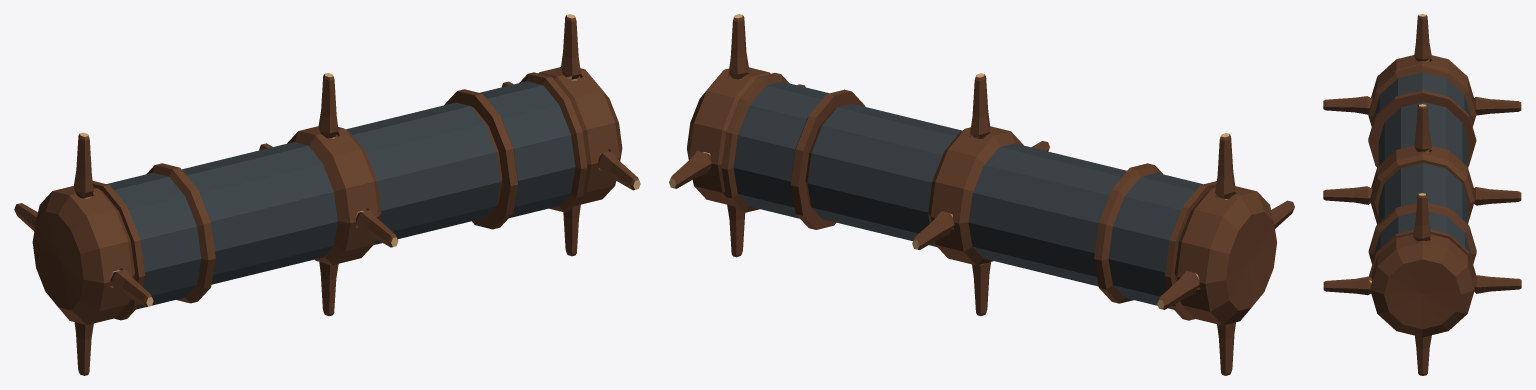
The model's file is MCastle_PortculisMech_Roll_01.FBX.
3 renders of one model, left to right at view 1: azimuth 30°, elevation 25°; view 2: azimuth 150°, elevation 25°; view 3: azimuth 270°, elevation 25°, orthographic. The views are drawn at different scales.
Parts seen in each view (by area): view 1: MCastle_PortculisMech_Roll_01_LOD0; view 2: MCastle_PortculisMech_Roll_01_LOD0; view 3: MCastle_PortculisMech_Roll_01_LOD0.
Part boxes in pixels (x1,y1,x2,y2): MCastle_PortculisMech_Roll_01_LOD0: [14, 14, 640, 375]; MCastle_PortculisMech_Roll_01_LOD0: [669, 14, 1294, 375]; MCastle_PortculisMech_Roll_01_LOD0: [1323, 14, 1521, 375].
Size of what is drawn, in the model's own units: 5.7 by 2.41 by 2.41.
